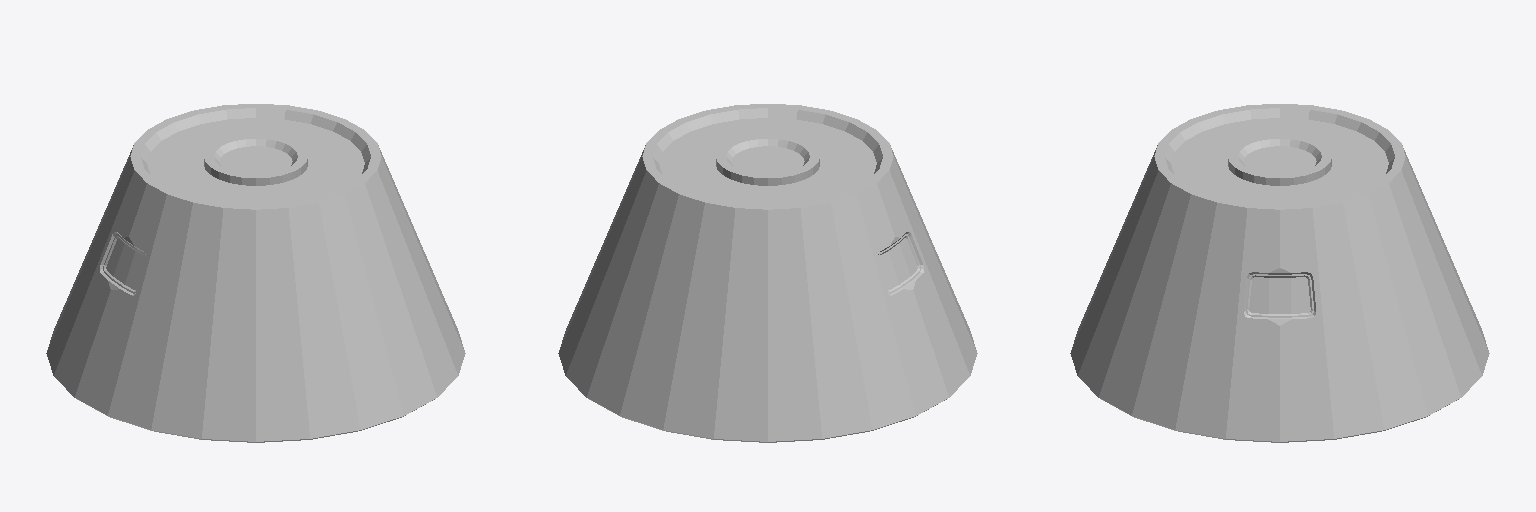
The model's file is Gemini_Crew_B.obj.
The picture shows the model from 3 angles: view 1: azimuth 30°, elevation 25°; view 2: azimuth 150°, elevation 25°; view 3: azimuth 270°, elevation 25°; orthographic projection.
Parts seen in each view (by area): view 1: Gemini_Crew_B, Gemini_Crew_B_Windows; view 2: Gemini_Crew_B, Gemini_Crew_B_Windows; view 3: Gemini_Crew_B, Gemini_Crew_B_Windows, Gemini_Crew_B_Flag.
Boxes of the visible parts, <box> form: Gemini_Crew_B: <box>46,104,465,442</box>; Gemini_Crew_B_Windows: <box>106,238,144,289</box>; Gemini_Crew_B: <box>558,104,977,442</box>; Gemini_Crew_B_Windows: <box>879,238,917,289</box>; Gemini_Crew_B: <box>1070,104,1489,442</box>; Gemini_Crew_B_Windows: <box>1249,277,1310,313</box>; Gemini_Crew_B_Flag: <box>1390,246,1416,292</box>.
Size of the model in its own units: 2.5 by 1.31 by 2.5.